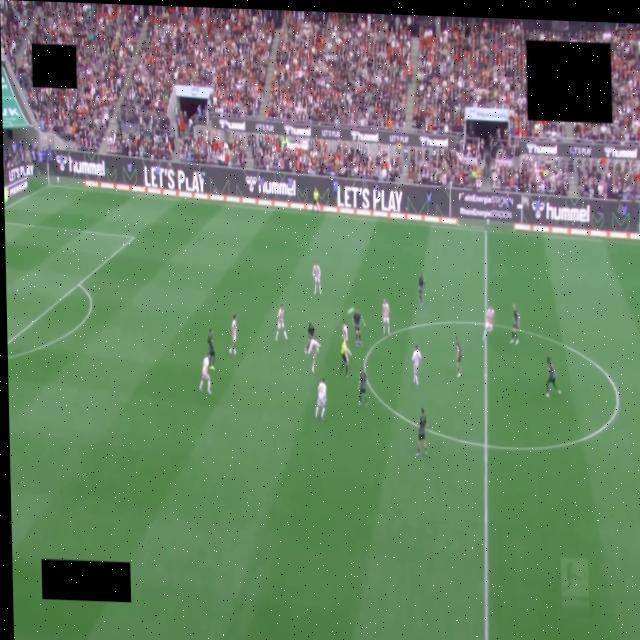player: (546, 357, 560, 397), (417, 408, 427, 456), (199, 356, 211, 394), (353, 309, 365, 346), (483, 306, 495, 341), (275, 305, 287, 340), (316, 380, 326, 419), (309, 338, 320, 372), (229, 314, 238, 355), (510, 305, 519, 345), (207, 329, 215, 371), (413, 345, 421, 385), (359, 368, 367, 406), (305, 323, 315, 353), (455, 337, 462, 377), (382, 300, 390, 335), (313, 263, 321, 294), (418, 273, 425, 306), (342, 321, 348, 343)
referee: (340, 340, 351, 377)
